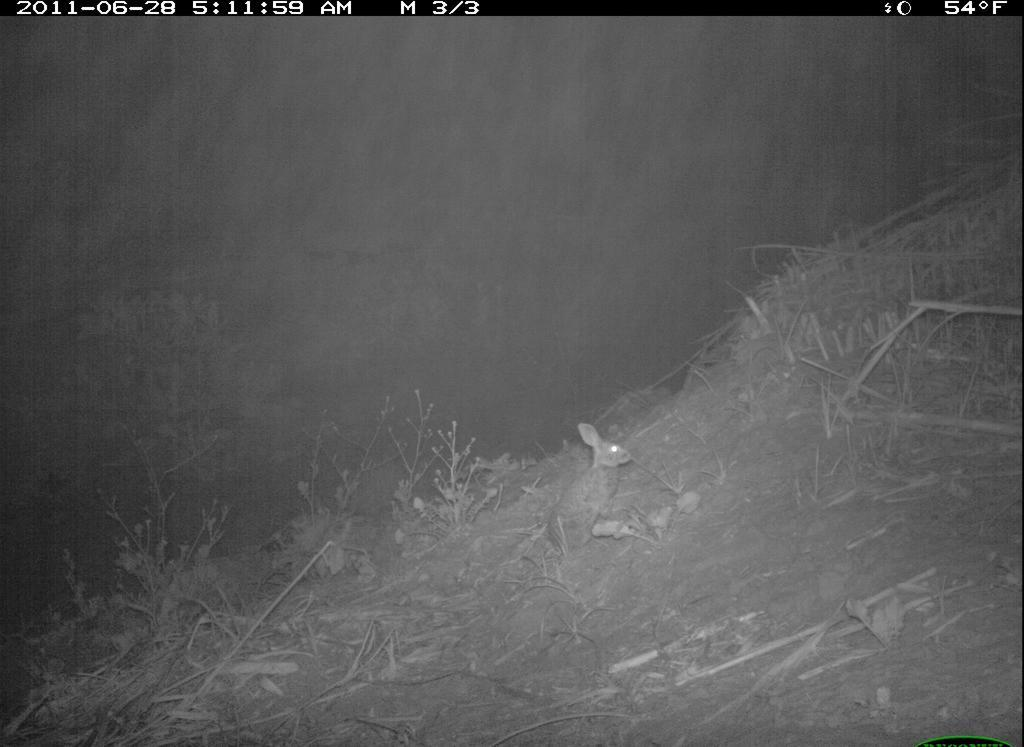rabbit: (527, 411, 653, 577)
